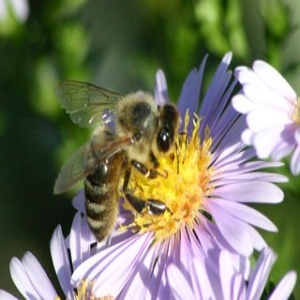bee: (51, 76, 184, 252)
